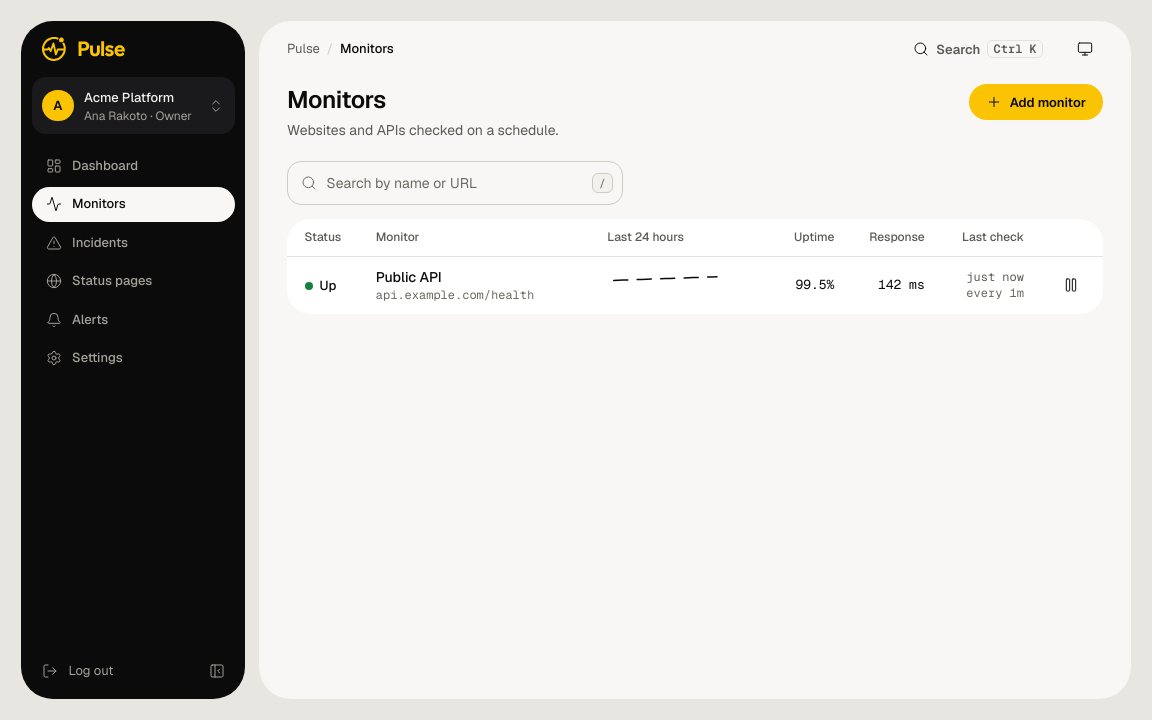
Monitors list (signed in) › pauses a monitor straight away
Click the button named "Pause Public API": (1071,285) 1053,267 -> 1089,303
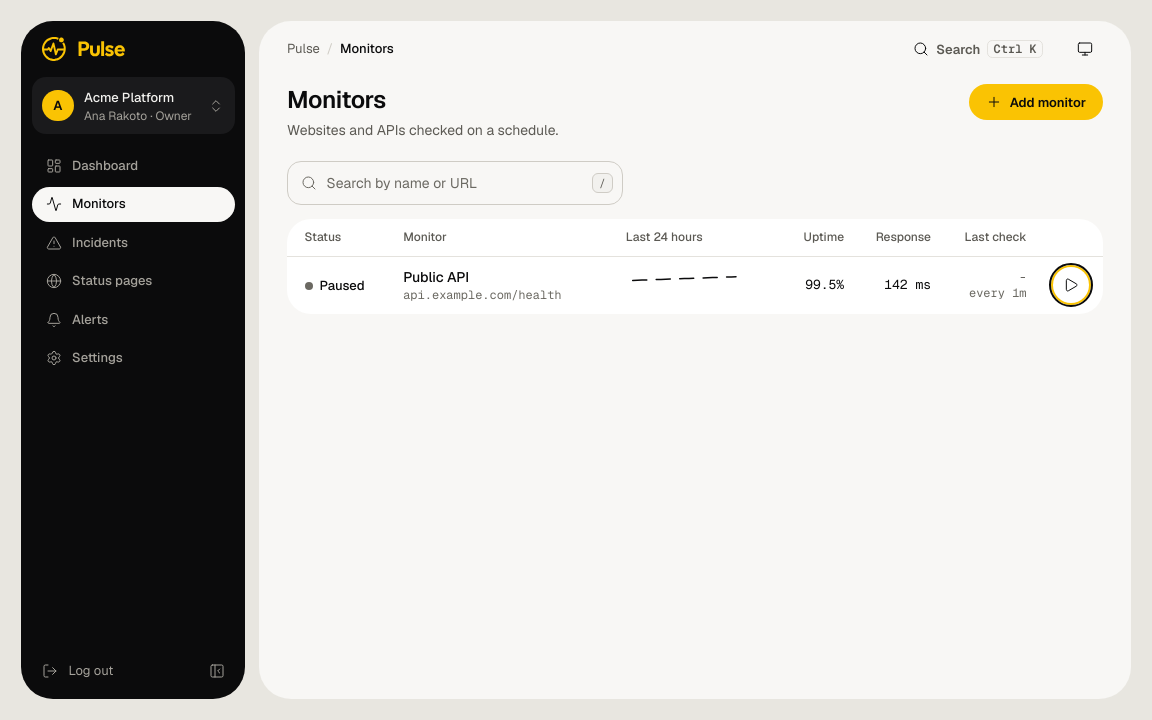
Check: the text "Paused" is shown, box 304,276 -> 365,296
